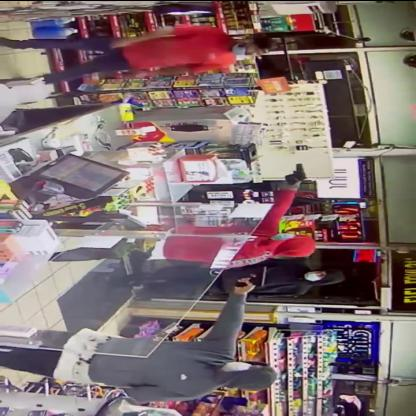Pistol: (236, 262, 272, 294), (276, 161, 314, 184)
